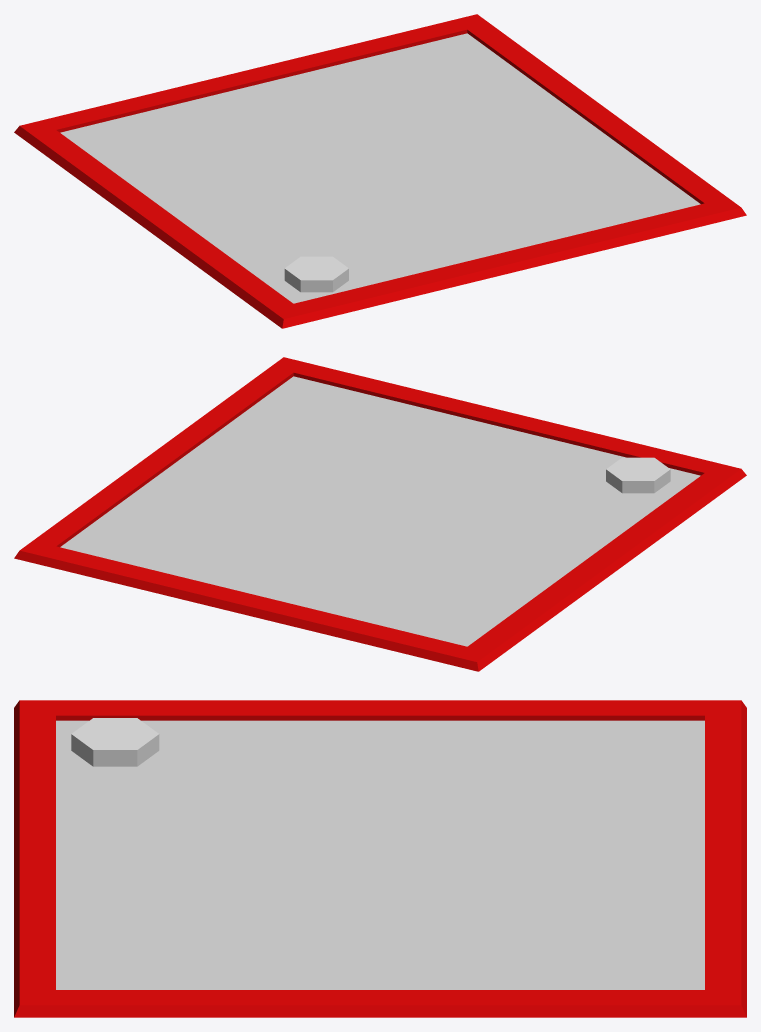
File: ME_BigTile.fbx
3 views of the same model, one above another, from view 1: azimuth 30°, elevation 25°; view 2: azimuth 150°, elevation 25°; view 3: azimuth 270°, elevation 25° (orthographic). The views are drawn at different scales.
Parts seen in each view (by area): view 1: Tile, Vis; view 2: Tile, Vis; view 3: Tile, Vis.
Part boxes in pixels (left/top/right/bottom): Tile: left=14, top=14, right=746, bottom=328; Vis: left=284, top=256, right=348, bottom=292; Tile: left=14, top=357, right=746, bottom=671; Vis: left=606, top=457, right=670, bottom=493; Tile: left=14, top=700, right=746, bottom=1017; Vis: left=71, top=718, right=159, bottom=766.
Size of the model in its own units: 200 by 13 by 200.
